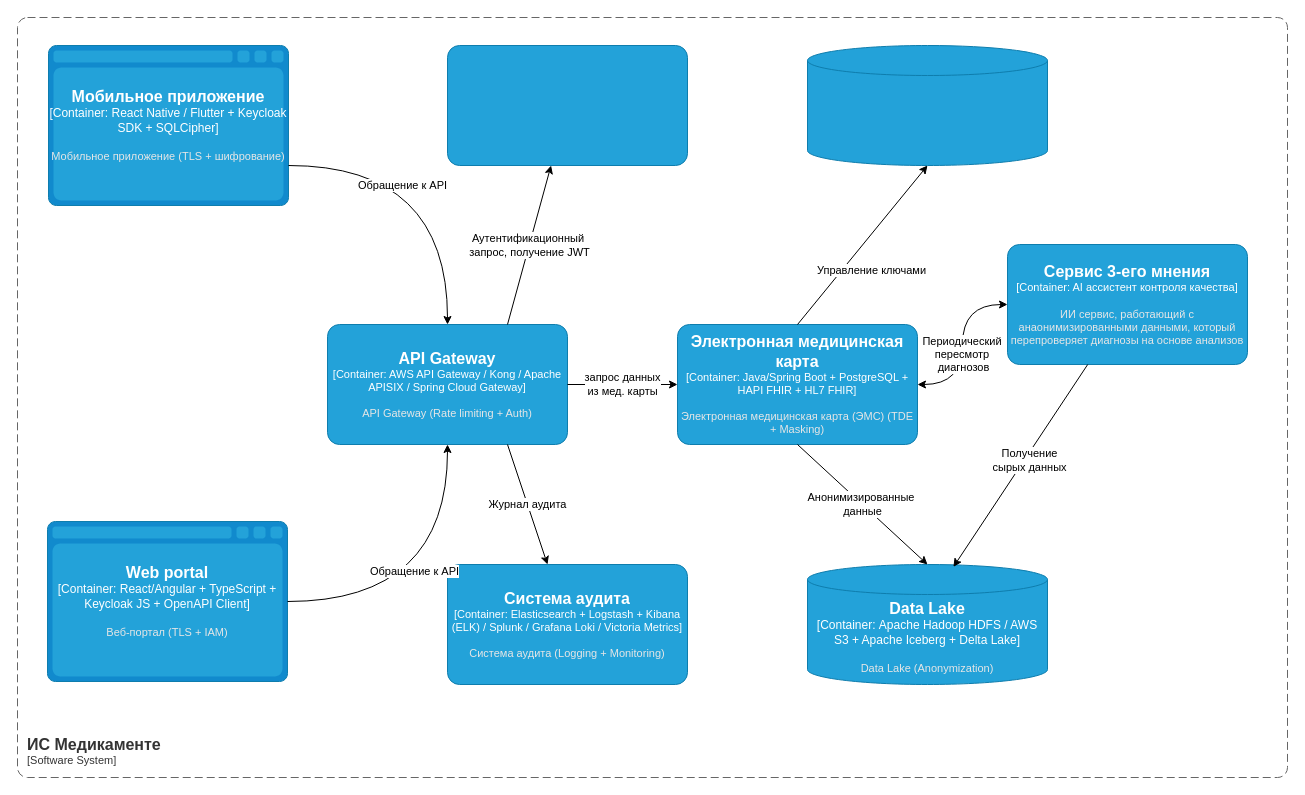
The diagram is 1305 pixels wide and 795 high, and some of its shapes have lost their labels. The shapes that lost their labels are listed below. From the top down, each one's centre as x and y in pixels, then its label:
At point (567, 105): "Keycloak IAM [Container: Keycloak] Keycloak IAM (RBAC + MFA)".
At point (927, 105): "Hashicorp Vault [Container: Hashicorp Vault] Hashicorp Vault (Key management)".
